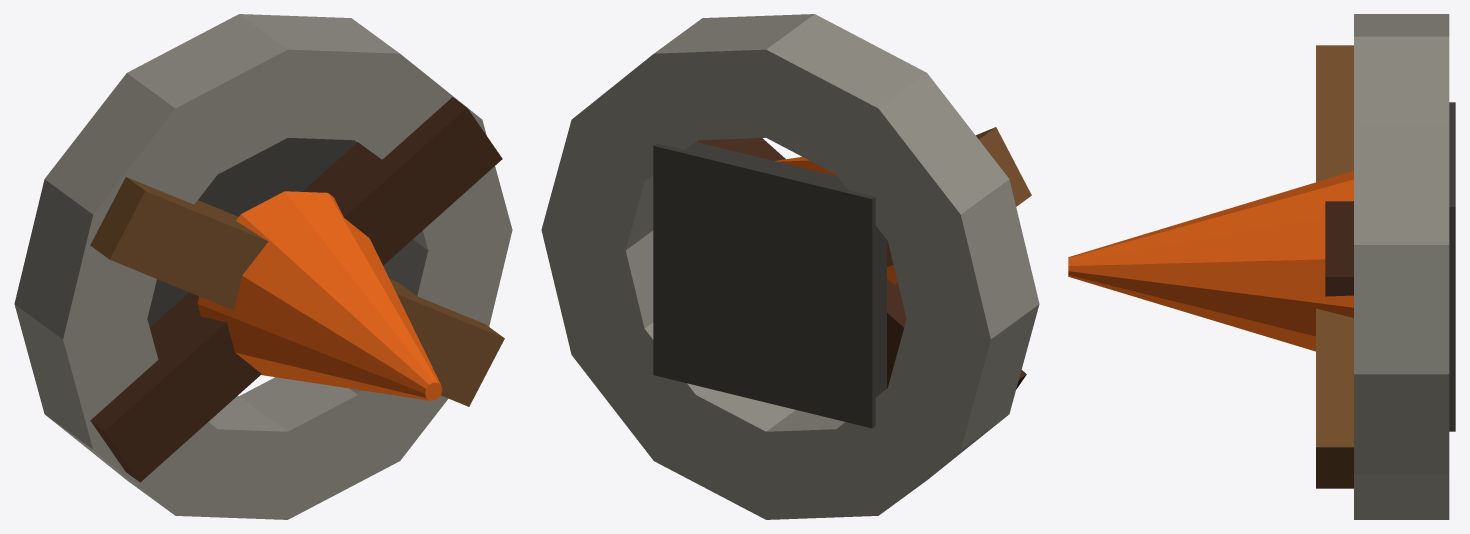
The model's file is campfire.obj.
The picture shows the model from 3 angles, left to right: view 1: azimuth 30°, elevation 25°; view 2: azimuth 150°, elevation 25°; view 3: azimuth 270°, elevation 25°; orthographic projection. The views are drawn at different scales.
Visible parts, largest first — view 1: campfire_stone_fire_ring, campfire_log_a, campfire_fire_outer, campfire_log_b, campfire_ash_bed; view 2: campfire_stone_fire_ring, campfire_ash_bed, campfire_log_a, campfire_log_b, campfire_fire_outer; view 3: campfire_stone_fire_ring, campfire_fire_outer, campfire_log_b, campfire_log_a, campfire_ash_bed.
Boxes of the visible parts, x1,y1,x2,y2 form: campfire_stone_fire_ring: (14,14,512,519); campfire_log_a: (90,97,502,482); campfire_fire_outer: (197,191,442,400); campfire_log_b: (90,177,504,406); campfire_ash_bed: (147,138,356,327); campfire_stone_fire_ring: (541,14,1039,519); campfire_ash_bed: (653,141,886,428); campfire_log_a: (696,138,1026,389); campfire_log_b: (887,127,1031,267); campfire_fire_outer: (775,157,897,285); campfire_stone_fire_ring: (1354,14,1449,519); campfire_fire_outer: (1068,171,1353,351); campfire_log_b: (1316,45,1353,488); campfire_log_a: (1325,201,1353,296); campfire_ash_bed: (1449,102,1455,431).
Size of the model in its own units: 1.6 by 1.6 by 1.22.
